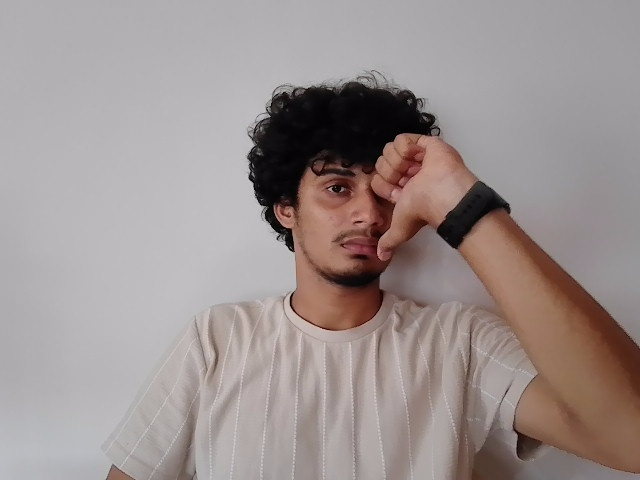drink: (262, 133, 466, 282)
